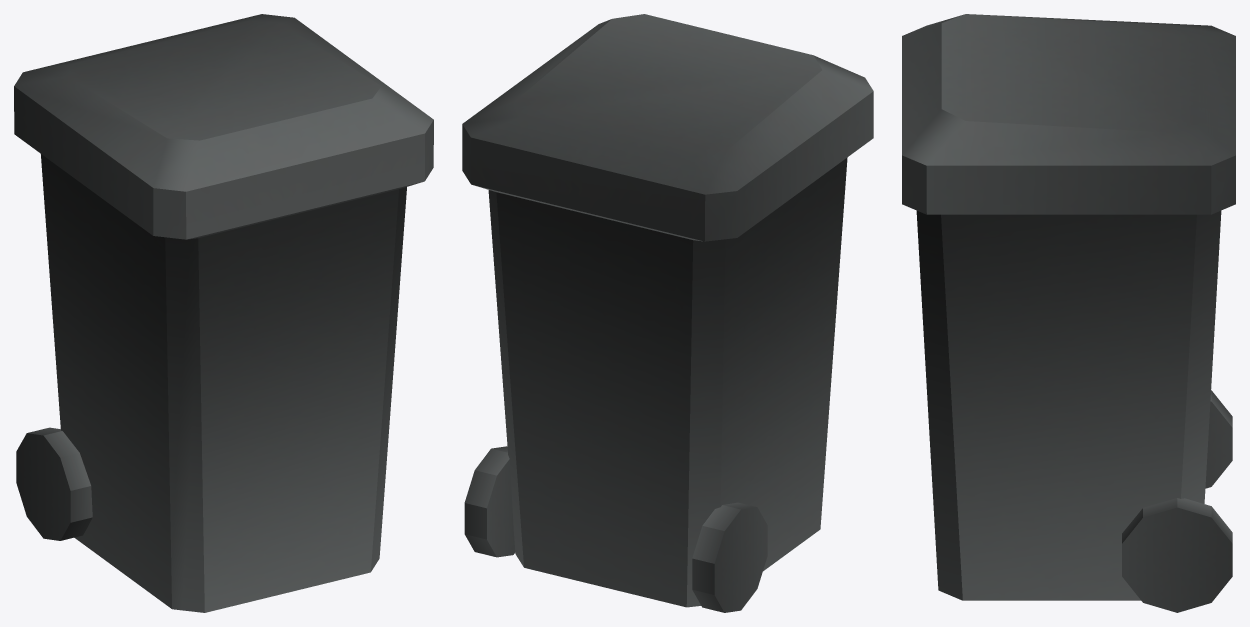
Rendered from anna.fbx.
3 renders of one model, left to right at view 1: azimuth 30°, elevation 25°; view 2: azimuth 150°, elevation 25°; view 3: azimuth 270°, elevation 25°, orthographic. The views are drawn at different scales.
Visible parts, largest first — view 1: anna; view 2: anna; view 3: anna.
Boxes of the visible parts, box(x1,y1,x2,y2) form: anna: box(14, 14, 433, 612); anna: box(462, 14, 873, 612); anna: box(902, 14, 1235, 612).
Bounding box in the file's own units: 69.02 × 111 × 69.53.
